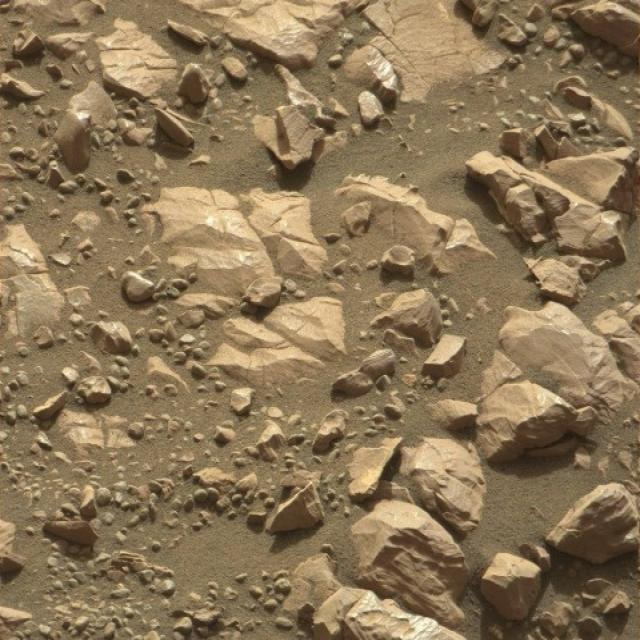mars-rocks: (352, 501, 467, 628), (477, 381, 586, 464), (400, 438, 487, 534), (547, 484, 640, 565), (482, 554, 542, 622)
